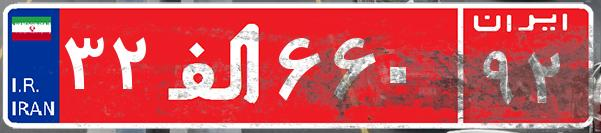0: (385, 28, 445, 110)
2: (110, 28, 158, 105), (525, 38, 570, 115)
3: (57, 26, 110, 107)
6: (273, 28, 330, 110), (330, 28, 385, 110)
9: (475, 38, 525, 113)
الف: (158, 15, 273, 115)
